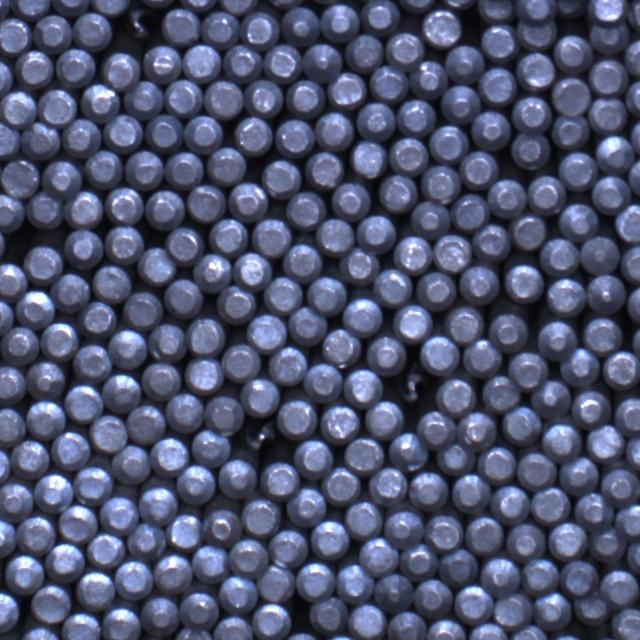tool: (538, 319, 579, 360), (145, 188, 185, 229), (296, 559, 336, 600), (302, 41, 343, 81), (140, 595, 180, 636), (420, 334, 460, 375), (409, 470, 449, 511), (342, 296, 383, 336), (502, 405, 543, 445), (390, 430, 431, 470), (280, 6, 320, 46), (4, 554, 44, 594), (458, 264, 498, 304), (45, 542, 85, 582), (218, 457, 258, 497), (490, 484, 530, 524), (153, 552, 193, 592), (34, 472, 74, 512), (248, 311, 288, 351), (526, 175, 566, 215), (456, 411, 496, 451), (355, 214, 395, 254), (276, 398, 316, 438), (504, 263, 544, 303), (228, 181, 268, 221), (423, 8, 463, 48), (559, 454, 599, 494), (576, 490, 616, 530), (331, 181, 371, 221), (488, 311, 528, 351), (482, 556, 522, 596), (445, 45, 485, 85), (24, 358, 64, 398), (507, 522, 548, 561), (286, 488, 327, 527), (386, 508, 426, 547), (126, 404, 165, 444), (204, 79, 243, 119), (253, 217, 293, 256), (320, 404, 360, 443), (51, 430, 90, 470), (115, 558, 154, 598), (233, 252, 272, 292), (125, 150, 164, 190), (76, 570, 115, 610), (72, 466, 112, 505), (314, 112, 353, 152), (17, 515, 56, 555), (16, 288, 55, 328), (84, 149, 123, 189), (240, 377, 280, 416), (150, 436, 189, 476), (586, 273, 626, 312), (414, 578, 454, 617), (163, 277, 202, 317), (344, 368, 384, 407), (262, 157, 301, 197), (437, 377, 477, 416), (160, 7, 200, 46), (58, 504, 98, 543), (105, 115, 145, 154), (109, 328, 148, 368), (222, 342, 262, 381), (360, 537, 400, 576), (39, 320, 78, 360), (508, 350, 548, 389), (177, 463, 216, 503), (228, 539, 268, 578), (571, 390, 611, 429), (471, 109, 510, 149), (559, 346, 599, 385), (452, 473, 491, 513), (408, 59, 448, 98), (445, 304, 485, 343), (122, 80, 162, 119), (41, 159, 82, 197), (74, 12, 113, 51), (269, 529, 308, 568), (1, 327, 40, 366), (456, 583, 495, 622), (26, 399, 65, 438), (163, 78, 202, 117), (25, 191, 64, 230), (304, 363, 343, 402), (581, 235, 620, 274), (241, 498, 280, 537), (223, 44, 262, 83), (104, 186, 143, 225), (534, 592, 573, 631), (358, 101, 397, 140), (56, 48, 95, 87), (559, 201, 598, 240), (11, 439, 50, 478), (546, 276, 585, 315), (374, 574, 413, 613), (310, 518, 349, 557), (323, 328, 362, 367), (395, 303, 434, 342), (552, 78, 591, 117), (31, 584, 70, 623), (442, 85, 481, 124), (543, 423, 582, 462), (307, 275, 346, 314), (368, 335, 407, 374), (139, 247, 178, 286), (284, 244, 322, 284), (204, 394, 244, 432), (182, 44, 222, 82), (92, 264, 132, 302), (206, 146, 246, 184), (19, 121, 59, 159), (234, 116, 272, 156), (268, 346, 308, 384), (337, 564, 375, 604), (424, 514, 464, 552), (397, 98, 437, 136), (186, 184, 226, 222), (532, 487, 572, 525), (66, 229, 104, 269), (422, 164, 462, 202), (464, 338, 504, 376), (554, 33, 592, 73), (140, 486, 178, 526), (100, 496, 140, 534), (53, 271, 91, 311), (286, 191, 326, 229), (244, 80, 284, 118), (144, 44, 182, 84), (112, 444, 150, 484), (597, 134, 635, 174), (202, 509, 242, 547), (338, 246, 378, 284), (530, 378, 570, 416), (179, 592, 220, 629), (488, 179, 526, 218), (194, 254, 233, 292), (183, 114, 222, 152), (102, 372, 140, 411), (316, 218, 355, 256), (37, 87, 76, 125), (149, 322, 187, 361), (191, 429, 230, 467), (199, 9, 238, 47), (440, 548, 479, 586), (33, 14, 71, 53), (165, 393, 203, 432), (370, 467, 409, 505), (322, 3, 360, 42), (521, 557, 560, 595), (343, 33, 382, 71), (240, 10, 279, 48), (434, 234, 473, 272), (276, 118, 315, 156), (124, 289, 163, 327), (82, 84, 120, 123), (216, 284, 255, 322), (263, 44, 301, 83), (101, 51, 139, 90), (373, 267, 412, 305), (389, 136, 428, 174), (588, 425, 627, 463), (478, 444, 516, 483), (385, 30, 423, 69), (495, 592, 534, 630), (66, 382, 104, 421), (286, 80, 325, 118), (63, 119, 102, 157), (90, 413, 128, 452), (601, 468, 639, 507), (366, 399, 404, 438), (417, 271, 456, 309), (105, 226, 144, 264), (23, 244, 62, 282), (450, 192, 489, 230), (378, 173, 417, 211), (295, 439, 333, 478), (328, 70, 367, 108), (410, 200, 449, 238), (430, 124, 469, 162), (75, 342, 113, 381), (219, 576, 258, 614), (479, 66, 517, 105), (516, 52, 554, 91), (517, 451, 557, 488), (0, 158, 38, 196), (467, 516, 505, 554), (550, 522, 588, 560), (209, 216, 247, 254), (184, 355, 222, 393), (142, 361, 180, 399), (288, 306, 326, 344), (401, 542, 439, 580), (185, 316, 223, 354), (64, 190, 102, 228), (126, 522, 164, 560), (602, 569, 640, 607), (560, 152, 598, 190), (306, 152, 344, 190), (472, 224, 510, 262), (258, 564, 296, 602), (420, 410, 458, 448), (513, 95, 551, 133), (345, 437, 384, 474), (254, 602, 293, 639), (264, 275, 303, 312), (370, 65, 409, 102), (260, 461, 299, 498), (460, 151, 499, 188), (540, 237, 579, 274), (512, 131, 551, 168), (192, 544, 228, 584), (395, 236, 432, 274), (16, 51, 54, 88), (0, 90, 37, 128), (166, 227, 204, 264), (584, 318, 622, 355), (164, 152, 202, 189), (325, 467, 362, 505), (603, 350, 640, 388), (482, 374, 520, 411), (144, 113, 182, 150), (350, 141, 388, 178), (560, 558, 598, 595), (589, 59, 627, 96), (310, 596, 348, 633), (588, 96, 627, 132), (593, 175, 630, 212), (345, 501, 382, 538), (349, 602, 387, 638), (165, 512, 201, 550), (552, 114, 590, 150), (590, 526, 628, 562), (359, 0, 398, 35), (100, 606, 140, 640), (80, 301, 117, 337), (482, 23, 518, 60), (574, 590, 612, 625), (0, 481, 33, 521), (88, 530, 124, 566), (510, 212, 546, 248), (437, 442, 476, 474), (389, 611, 429, 640), (0, 17, 31, 54), (591, 24, 628, 55), (61, 611, 100, 640), (0, 261, 27, 299), (0, 406, 25, 446), (0, 365, 26, 403), (615, 396, 640, 435), (214, 615, 253, 640), (616, 203, 640, 242), (612, 607, 640, 640), (514, 0, 556, 22), (587, 0, 627, 23), (0, 194, 24, 232), (429, 618, 468, 640), (0, 590, 20, 632), (617, 501, 640, 537), (621, 243, 640, 283), (0, 121, 20, 158), (478, 0, 515, 19), (470, 622, 508, 640), (10, 0, 50, 17), (625, 36, 640, 78), (173, 625, 214, 640), (52, 0, 90, 16), (18, 626, 61, 640), (0, 515, 15, 555), (90, 0, 132, 14), (554, 0, 588, 17), (219, 0, 260, 14), (510, 625, 548, 640), (626, 434, 640, 472), (0, 56, 13, 96), (0, 298, 14, 335), (626, 78, 640, 115), (396, 0, 439, 11), (628, 158, 640, 197), (627, 539, 640, 575), (179, 0, 217, 12), (628, 284, 640, 321), (0, 445, 10, 485), (282, 631, 322, 640), (630, 118, 640, 154), (439, 0, 479, 9), (264, 0, 306, 8), (139, 0, 178, 8), (632, 322, 640, 359), (322, 633, 363, 640), (0, 226, 6, 264), (0, 0, 10, 21)
tool_b: (396, 368, 431, 404), (124, 4, 156, 41), (243, 418, 277, 451)
